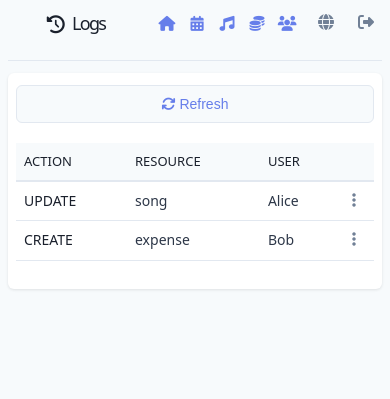
Test case: Logs › should expand log details
Click the button with class "btn-dots" in the row of "UPDATE": (354, 201) x1=342 y1=186 x2=366 y2=216
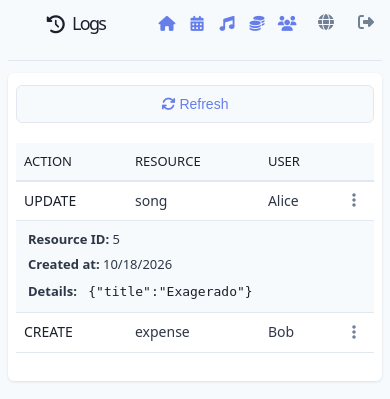
Expected: the element with class "log-expanded-details" shows "Exagerado", x1=88 y1=284 x2=253 y2=299
